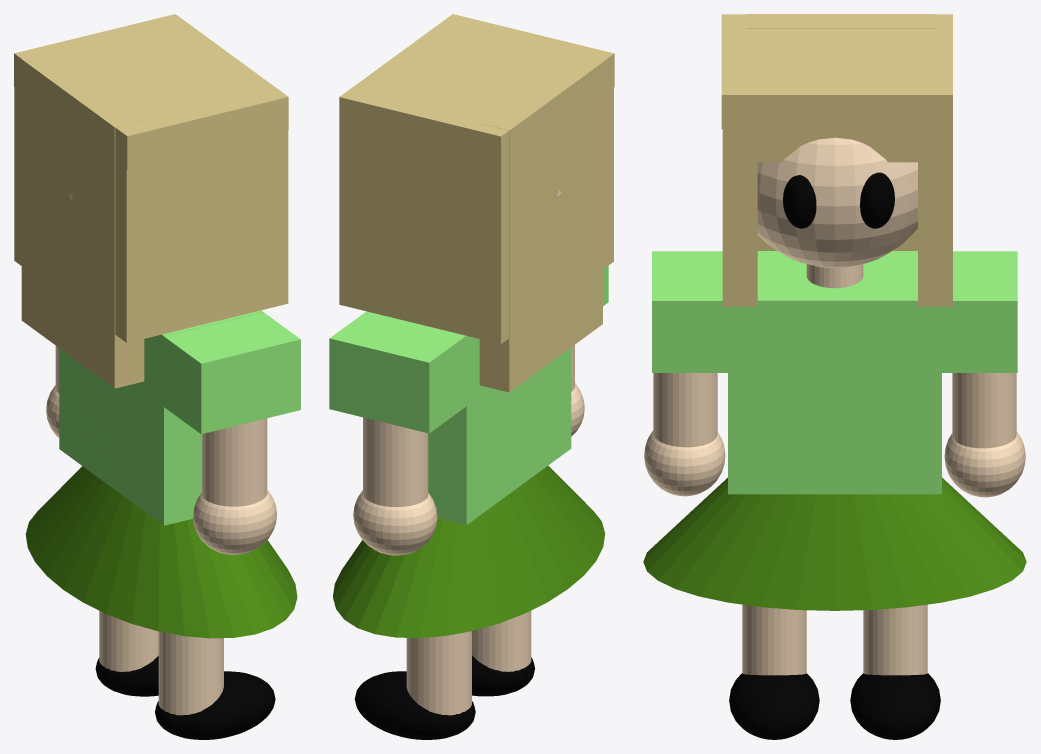
File: GreenGirl.fbx
The picture shows the model from 3 angles, left to right: view 1: azimuth 30°, elevation 25°; view 2: azimuth 150°, elevation 25°; view 3: azimuth 270°, elevation 25°; orthographic projection. The views are drawn at different scales.
Visible parts, largest first — view 1: Cube, Cube.001, Cube.002, Cone, Cube.005, Sphere.018, Sphere.015, Sphere.019, Cube.004, Sphere.014; view 2: Cube.004, Cube.001, Cube.002, Cone, Cube.005, Sphere.019, Sphere.014, Sphere.018, Cube, Sphere.015; view 3: Cube.001, Cone, Cube.005, Sphere, Sphere.018, Sphere.019, Sphere.014, Sphere.015, Cube, Cube.004, Cube.003, Cube.002 (+3 smaller).
Boxes of the visible parts, x1=… form: Cube: x1=115, y1=130, x2=288, y2=342; Cube.001: x1=59, y1=310, x2=300, y2=525; Cube.002: x1=21, y1=52, x2=144, y2=388; Cone: x1=25, y1=466, x2=297, y2=638; Cube.005: x1=14, y1=14, x2=288, y2=169; Sphere.018: x1=155, y1=631, x2=275, y2=739; Sphere.015: x1=193, y1=418, x2=276, y2=554; Sphere.019: x1=95, y1=611, x2=158, y2=696; Cube.004: x1=14, y1=71, x2=21, y2=265; Sphere.014: x1=46, y1=346, x2=59, y2=437; Cube.004: x1=339, y1=131, x2=508, y2=343; Cube.001: x1=329, y1=266, x2=608, y2=525; Cube.002: x1=479, y1=55, x2=602, y2=392; Cone: x1=333, y1=465, x2=605, y2=638; Cube.005: x1=339, y1=14, x2=614, y2=169; Sphere.019: x1=354, y1=631, x2=475, y2=739; Sphere.014: x1=353, y1=417, x2=437, y2=555; Sphere.018: x1=472, y1=611, x2=534, y2=696; Cube: x1=603, y1=72, x2=613, y2=269; Sphere.015: x1=571, y1=345, x2=584, y2=436; Cube.001: x1=652, y1=251, x2=1017, y2=494; Cone: x1=643, y1=477, x2=1026, y2=610; Cube.005: x1=721, y1=14, x2=952, y2=129; Sphere: x1=757, y1=137, x2=917, y2=267; Sphere.018: x1=729, y1=604, x2=819, y2=739; Sphere.019: x1=850, y1=604, x2=940, y2=739; Sphere.014: x1=944, y1=373, x2=1025, y2=497; Sphere.015: x1=644, y1=373, x2=725, y2=496; Cube: x1=722, y1=113, x2=757, y2=306; Cube.004: x1=918, y1=113, x2=952, y2=306; Cube.003: x1=757, y1=129, x2=917, y2=162; Cube.002: x1=746, y1=14, x2=936, y2=250.
Bounding box in the file's own units: 217 × 679 × 359.
